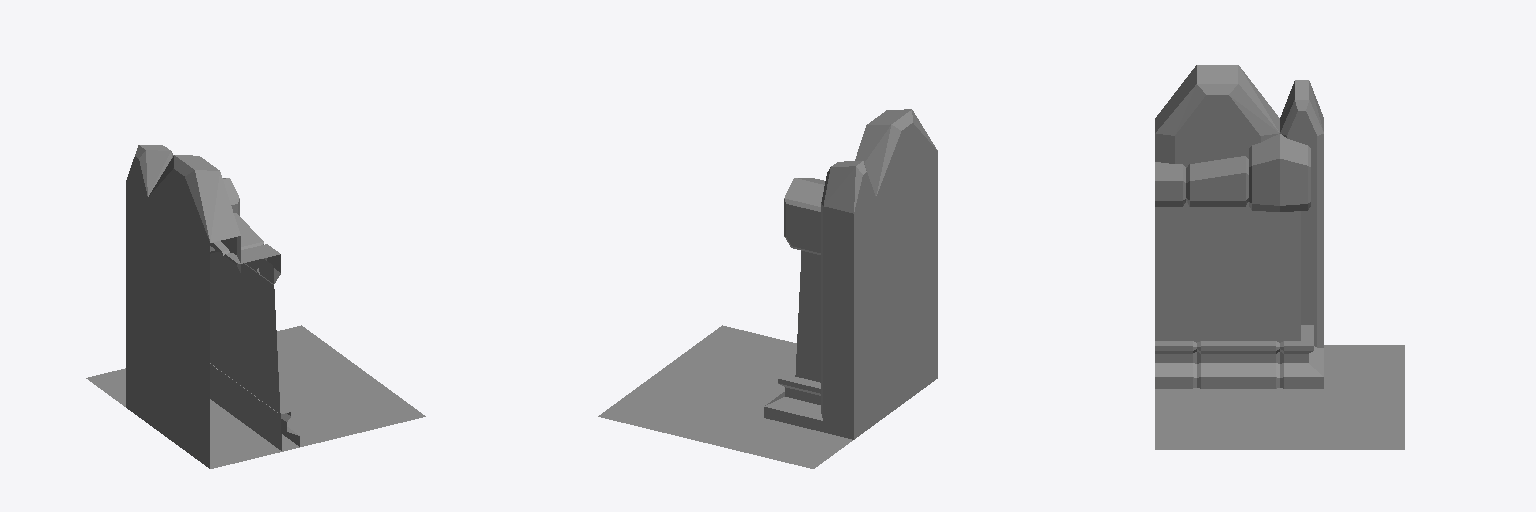
Rendered from Wall_Gap_Left.obj.
The picture shows the model from 3 angles: view 1: azimuth 30°, elevation 25°; view 2: azimuth 150°, elevation 25°; view 3: azimuth 270°, elevation 25°; orthographic projection.
Parts seen in each view (by area): view 1: Palette; view 2: Palette; view 3: Palette.
Part boxes in pixels (x1,y1,x2,y2): Palette: (86, 145, 425, 468); Palette: (598, 109, 937, 468); Palette: (1155, 65, 1404, 449).
Bounding box in the file's own units: 6 × 7.5 × 6.